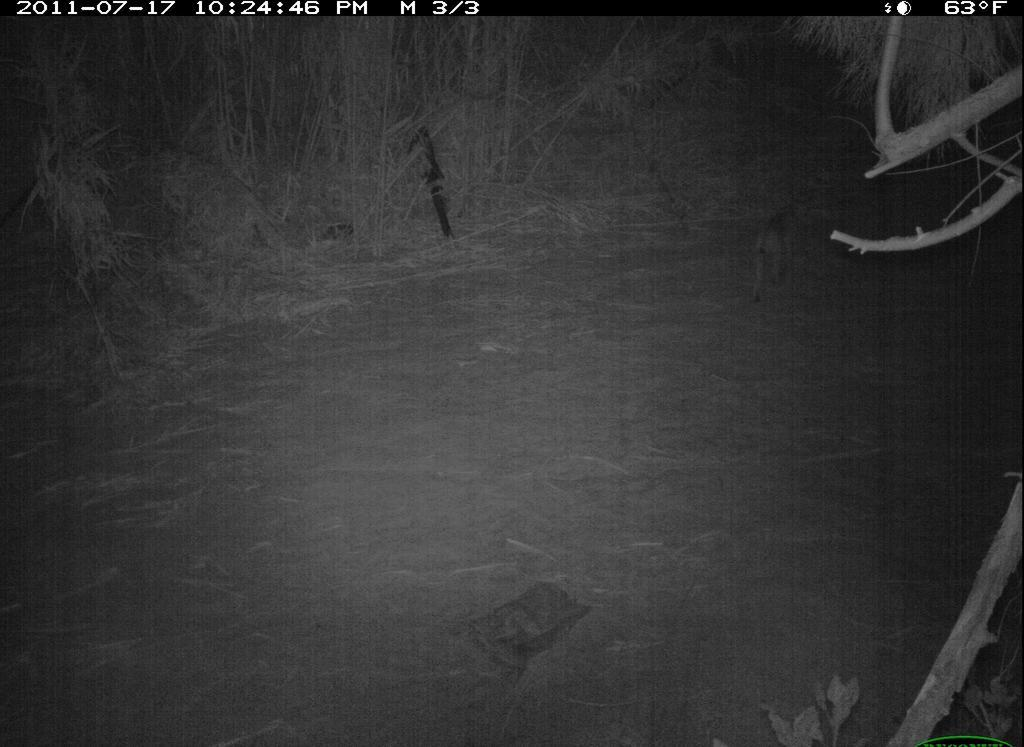bobcat: (729, 187, 838, 314)
